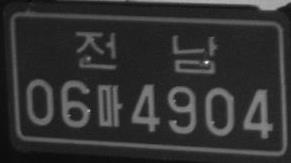0: (204, 86, 234, 136), (25, 77, 54, 125)
4: (242, 87, 273, 139), (131, 82, 161, 133)
6: (59, 78, 91, 128)
9: (166, 83, 197, 133)
마: (96, 83, 122, 127)
전남_D: (76, 30, 218, 72)
